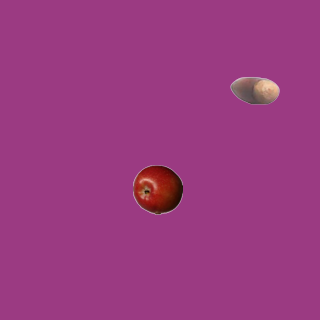Apple Braeburn: (132, 164, 182, 214)
Hazelnut: (229, 65, 279, 115)
